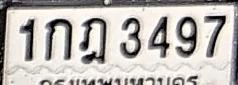1: (20, 18, 34, 60)
3: (120, 16, 142, 58)
4: (148, 14, 170, 58)
7: (204, 14, 226, 57)
9: (175, 15, 197, 57)
A01: (44, 17, 72, 60)
A14: (80, 16, 108, 64)
